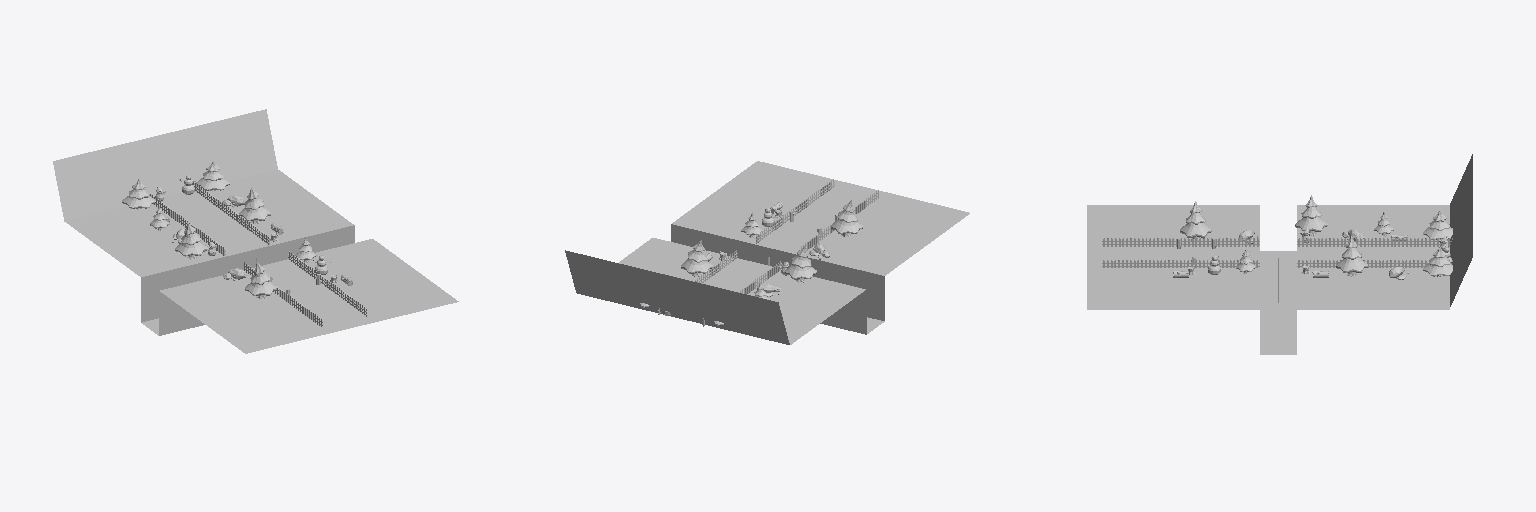
The model's file is escenario_nieve_jpg.obj.
3 views of the same model, side by side, from view 1: azimuth 30°, elevation 25°; view 2: azimuth 150°, elevation 25°; view 3: azimuth 270°, elevation 25° (orthographic).
Visible parts, largest first — view 1: escenario suelo_uv, escenario pino_ladeado3, escenario pino_ladeado2, escenario pino_ladeado1, escenario pino_ancho1, escenario pino_ancho2, escenario cerca_uv4, escenario cerca_uv2; view 2: escenario suelo_uv, escenario pino_ladeado2, escenario pino_ladeado3, escenario pino_ladeado1, escenario cerca_uv2; view 3: escenario suelo_uv, escenario cerca_uv1, escenario cerca_uv3, escenario cerca_uv2, escenario pino_ladeado1, escenario pino_ladeado3, escenario pino_ladeado2, escenario pino_ancho2, escenario cerca_uv4.
Boxes of the visible parts, <box> form: escenario suelo_uv: <box>53,109,458,353</box>; escenario pino_ladeado3: <box>245,262,276,298</box>; escenario pino_ladeado2: <box>175,222,207,259</box>; escenario pino_ladeado1: <box>239,187,270,223</box>; escenario pino_ancho1: <box>122,179,155,209</box>; escenario pino_ancho2: <box>196,161,229,191</box>; escenario cerca_uv4: <box>192,180,269,244</box>; escenario cerca_uv2: <box>288,251,366,316</box>; escenario suelo_uv: <box>565,161,969,344</box>; escenario pino_ladeado2: <box>785,246,816,282</box>; escenario pino_ladeado3: <box>831,200,862,236</box>; escenario pino_ladeado1: <box>681,240,712,276</box>; escenario cerca_uv2: <box>756,179,834,243</box>; escenario suelo_uv: <box>1087,154,1472,354</box>; escenario cerca_uv1: <box>1102,238,1259,246</box>; escenario cerca_uv3: <box>1297,238,1452,246</box>; escenario cerca_uv2: <box>1102,260,1259,267</box>; escenario pino_ladeado1: <box>1336,236,1367,276</box>; escenario pino_ladeado3: <box>1180,201,1211,240</box>; escenario pino_ladeado2: <box>1295,195,1327,235</box>; escenario pino_ancho2: <box>1423,247,1452,276</box>; escenario cerca_uv4: <box>1297,260,1452,267</box>.
Size of the model in its own units: 945 by 425 by 1476.